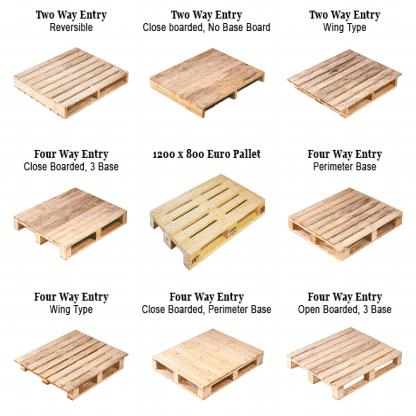BoxFace: (150, 173, 268, 272), (283, 323, 407, 405)
